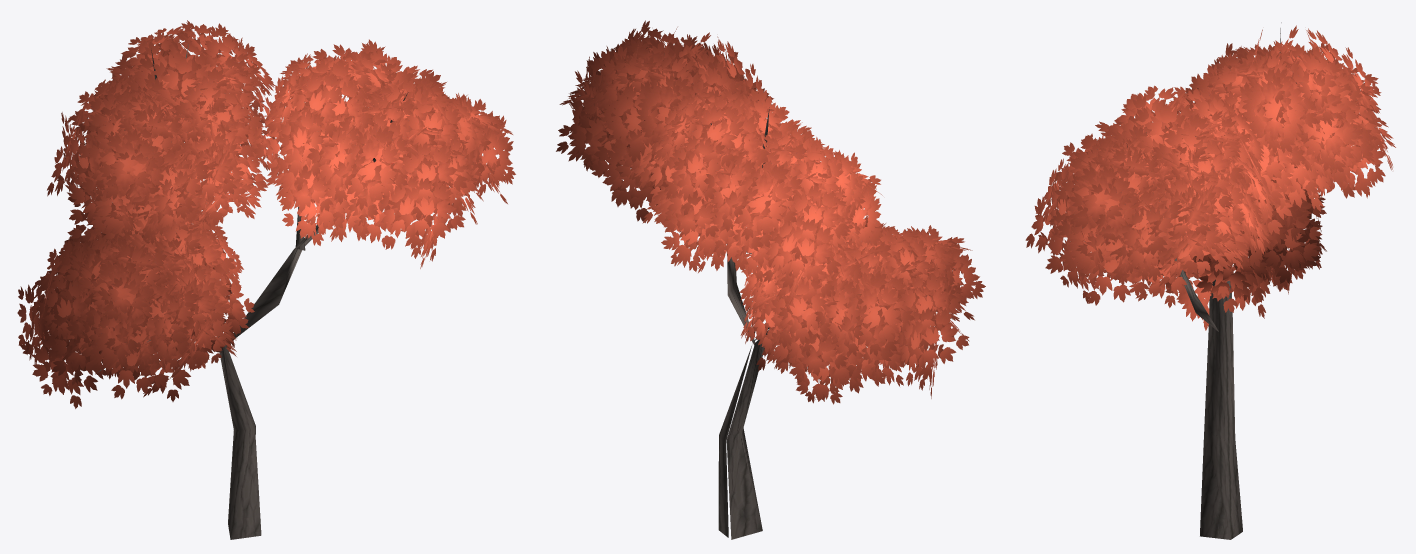
File: mapletree_5.glb
The picture shows the model from 3 angles, left to right: view 1: azimuth 30°, elevation 25°; view 2: azimuth 150°, elevation 25°; view 3: azimuth 270°, elevation 25°; orthographic projection. The views are drawn at different scales.
Visible parts, largest first — view 1: MapleTree_5; view 2: MapleTree_5; view 3: MapleTree_5.
Boxes of the visible parts, bbox=[...] form: MapleTree_5: bbox=[17, 20, 515, 539]; MapleTree_5: bbox=[556, 20, 985, 539]; MapleTree_5: bbox=[1025, 22, 1395, 539].
Size of the model in its own units: 7.01 by 7.28 by 5.08.
2 materials, 2 textured.
